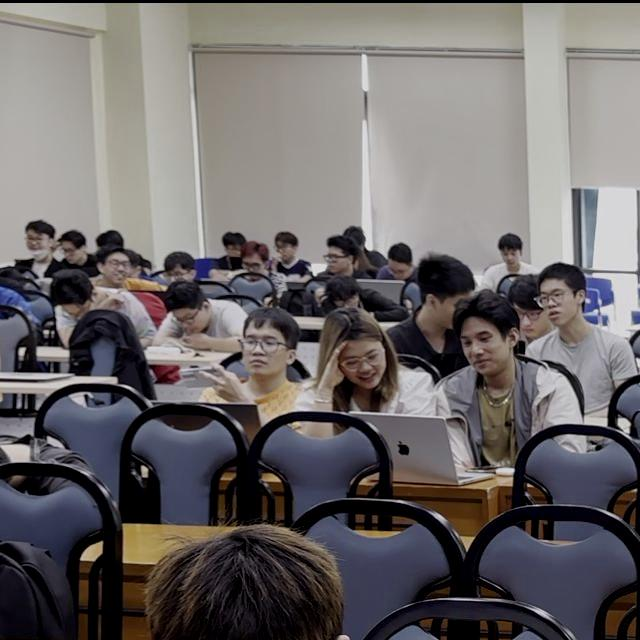Looking away: (460, 318, 512, 376), (339, 338, 390, 391), (536, 279, 578, 328)
Phone use: (177, 308, 312, 433)
